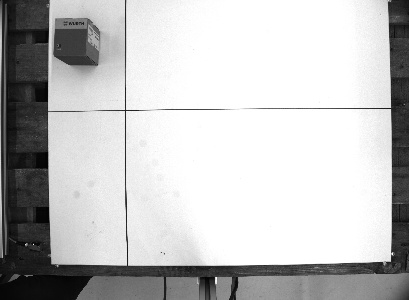b7: (51, 14, 101, 68)
